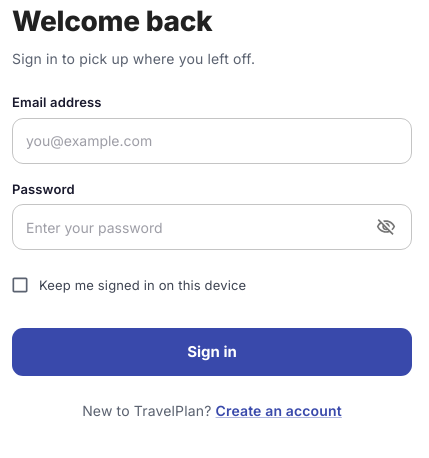
SignInForm › rejects an invalid email address
Type "not-an-email" into the field labelled "Email address" at coordinates (212, 141), box x1=12 y1=118 x2=412 y2=164
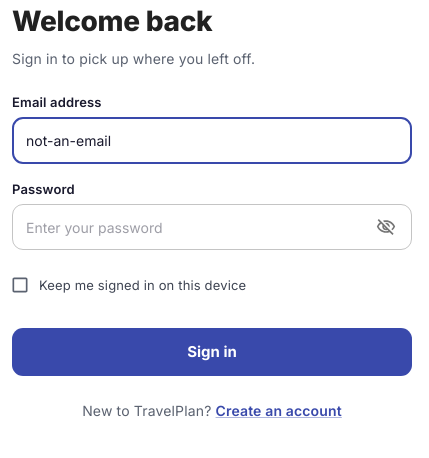
Type "secret123" into the password field labelled "Password" at coordinates (188, 227), box x1=12 y1=204 x2=363 y2=250
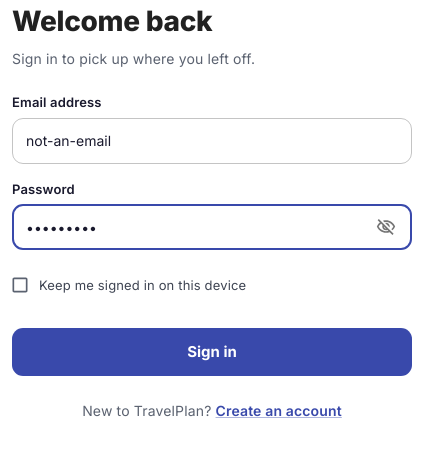
Click the button "Sign in" at coordinates (212, 352), box x1=12 y1=328 x2=412 y2=376
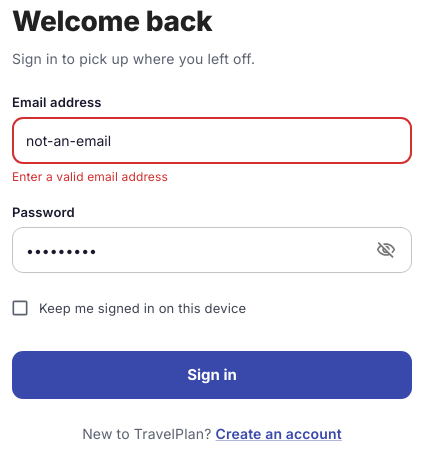
Now the text "Enter a valid email address" is shown, box x1=12 y1=169 x2=168 y2=184
